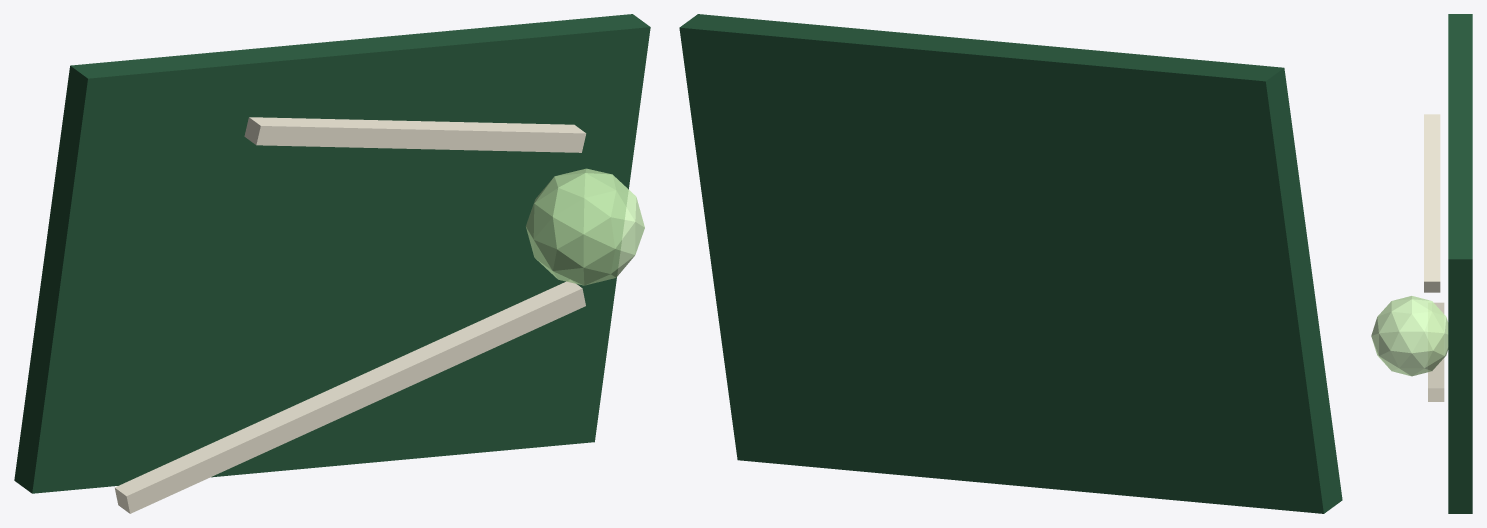
The model's file is 02_world_prop_polish.glb.
3 renders of one model, left to right at view 1: azimuth 30°, elevation 25°; view 2: azimuth 150°, elevation 25°; view 3: azimuth 270°, elevation 25°, orthographic. The views are drawn at different scales.
Parts seen in each view (by area): view 1: object_overlay_plate, edge_wear_a, glow_socket, edge_wear_b; view 2: object_overlay_plate; view 3: object_overlay_plate, glow_socket, edge_wear_b, edge_wear_a.
Part boxes in pixels (<box>): object_overlay_plate: <box>14,14,650,493</box>; edge_wear_a: <box>115,280,585,513</box>; glow_socket: <box>525,168,644,285</box>; edge_wear_b: <box>244,117,586,152</box>; object_overlay_plate: <box>679,14,1342,513</box>; object_overlay_plate: <box>1448,14,1472,513</box>; glow_socket: <box>1371,296,1448,376</box>; edge_wear_b: <box>1424,114,1440,292</box>; edge_wear_a: <box>1428,302,1444,401</box>.
Bounding box in the file's own units: 1.2 × 0.9006 × 0.25.
